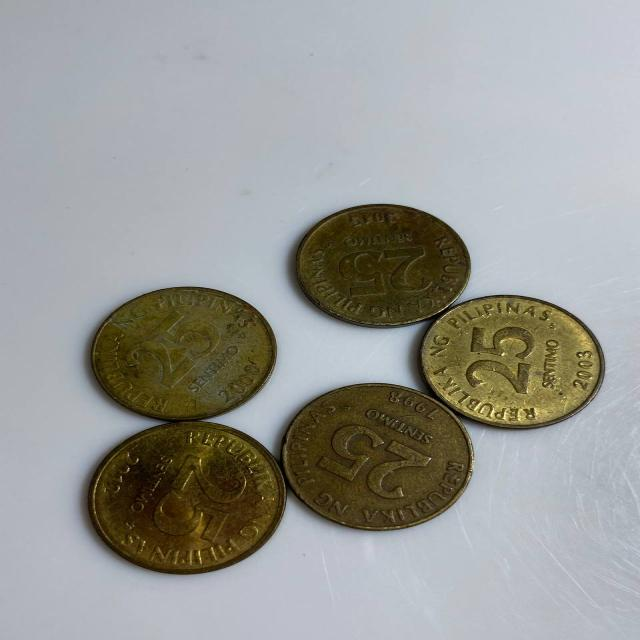25Cent_Old_Front: (322, 421, 430, 501), (154, 452, 234, 545), (128, 312, 229, 382), (460, 324, 541, 394), (333, 248, 440, 300)
